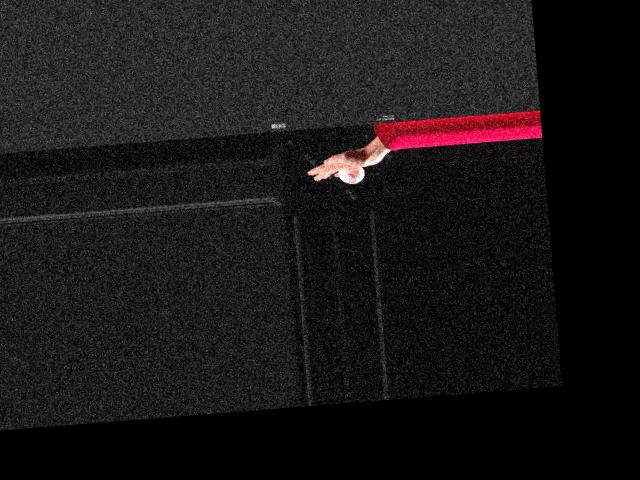egg: (338, 165, 366, 184)
